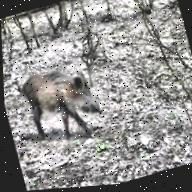boar: (6, 47, 109, 160)
